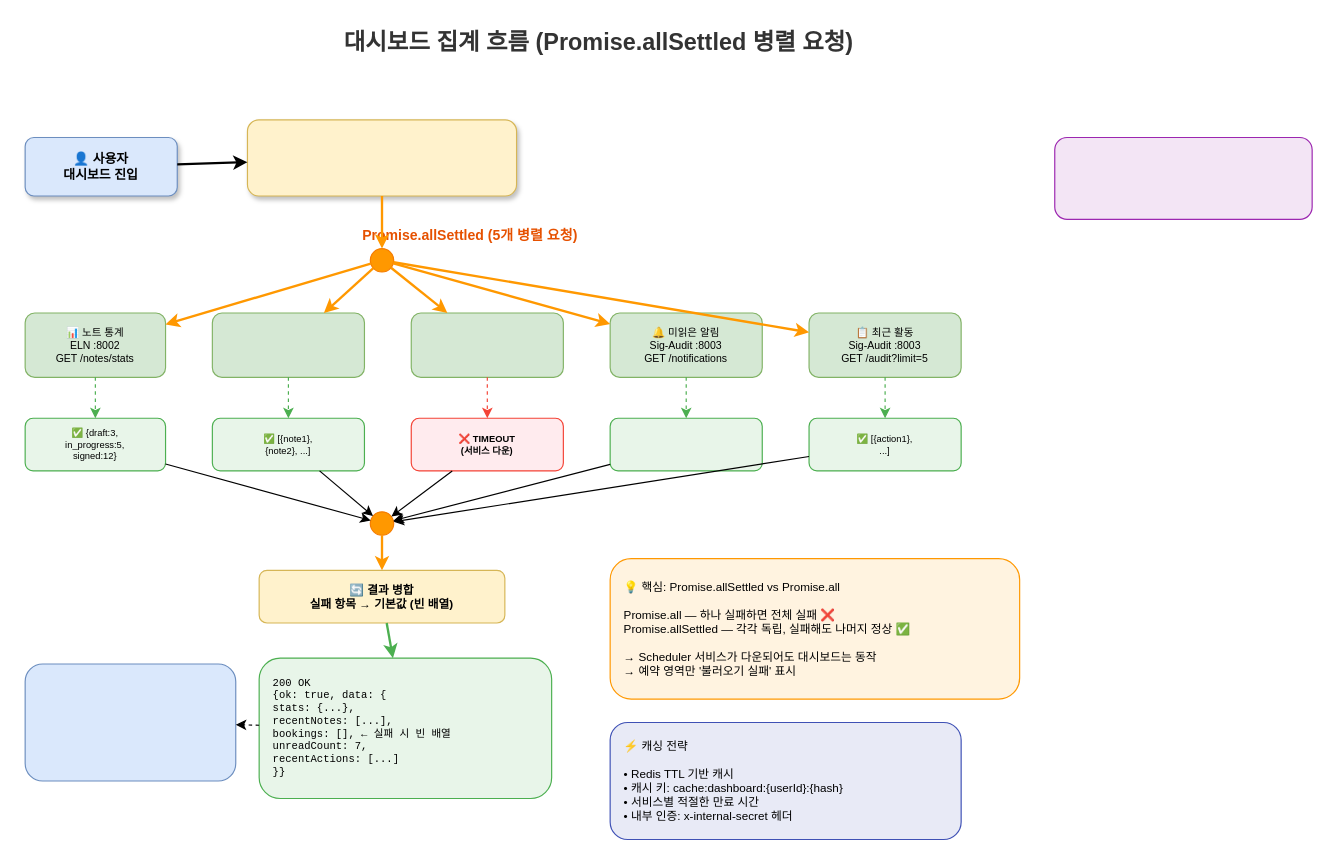
Some shapes in this 1333 by 860 pixel diagram are drawn without their labels. Each missing label, with the centre of its shape:
"✅ {unread: 7}" belongs at (685,444).
"👑 관리자 대시보드 GET /api/dashboard/admin requireRole(ADMIN) + Auth/ELN/Sig 통계 집계" belongs at (1183,177).
"📅 내 예약 Scheduler :8005 GET /bookings?limit=5" belongs at (486,344).
"📝 최근 노트 ELN :8002 GET /notes?limit=5" belongs at (287,344).
"🔀 API Gateway :8000 GET /api/dashboard/personal JWT 검증 → userId, orgId 추출" belongs at (383,159).
"🖥️ Frontend 렌더링 • 정상 항목: 데이터 표시 • 실패 항목: '불러오기 실패' 표시 • 전체 페이지는 정상 동작" belongs at (130,722).
